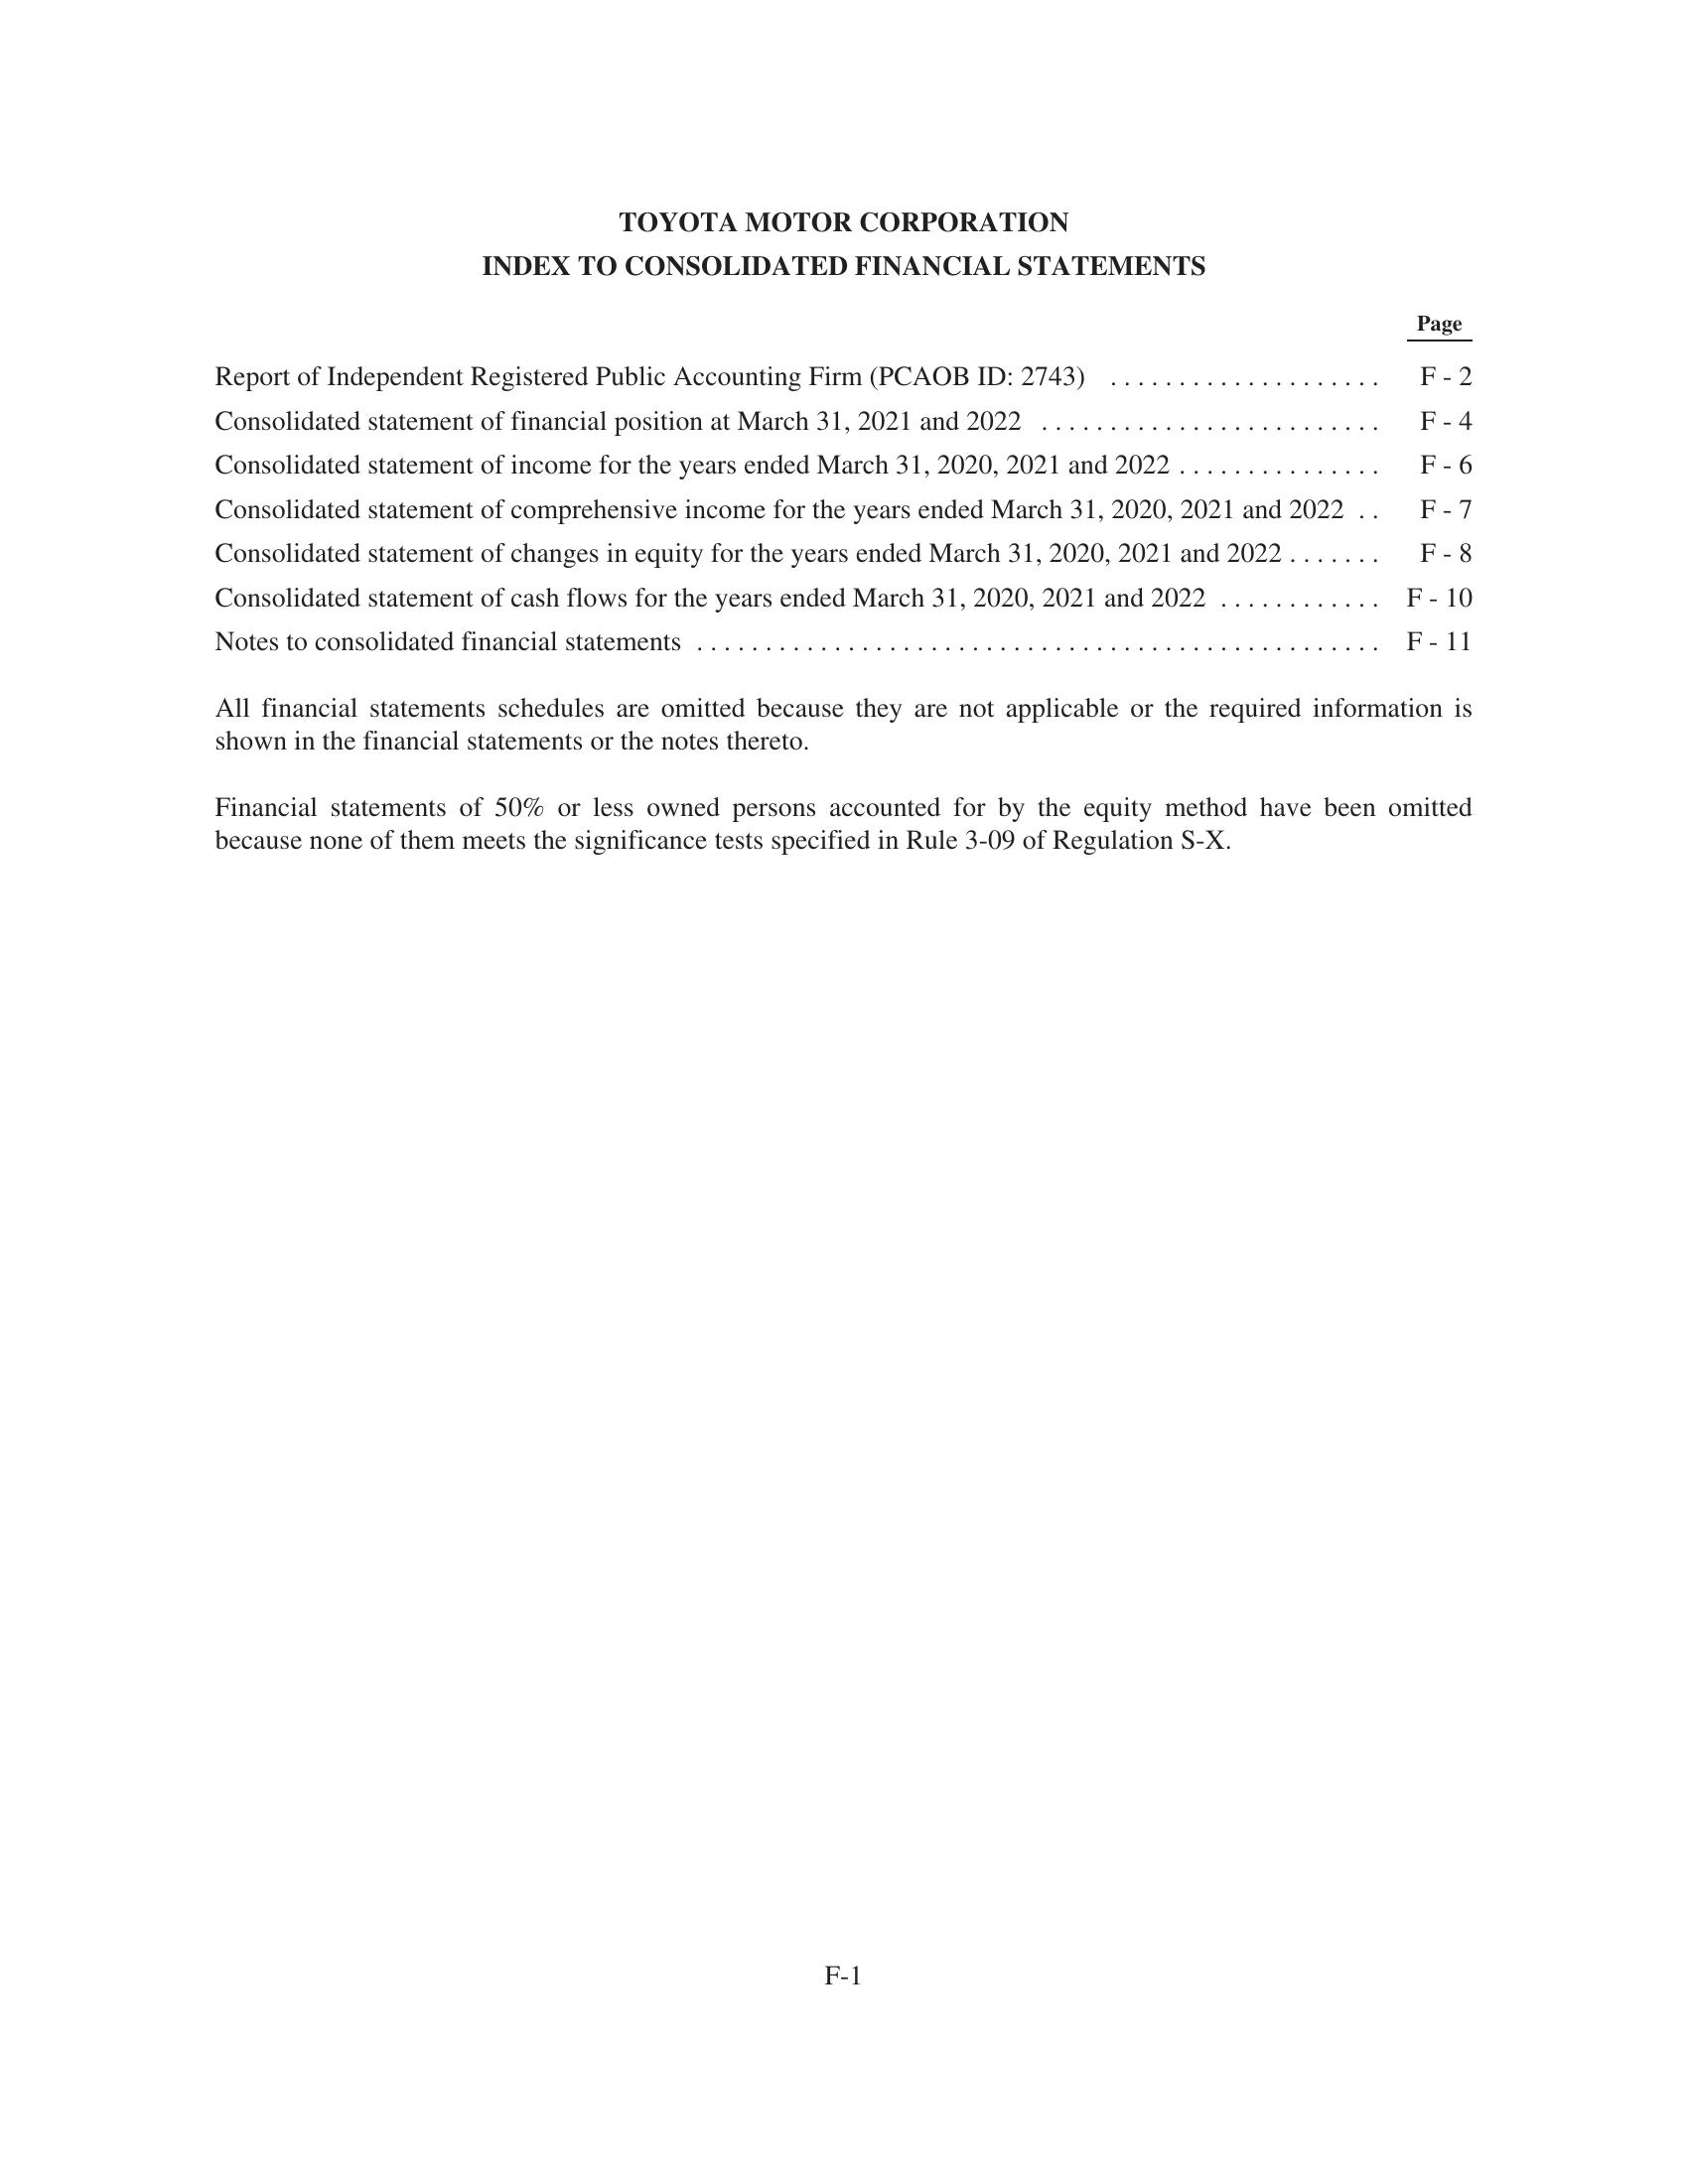Footer: (0, 1941, 1688, 2184)
Header: (0, 0, 1688, 200)
